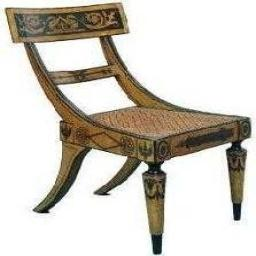Chair: (1, 0, 256, 256)
